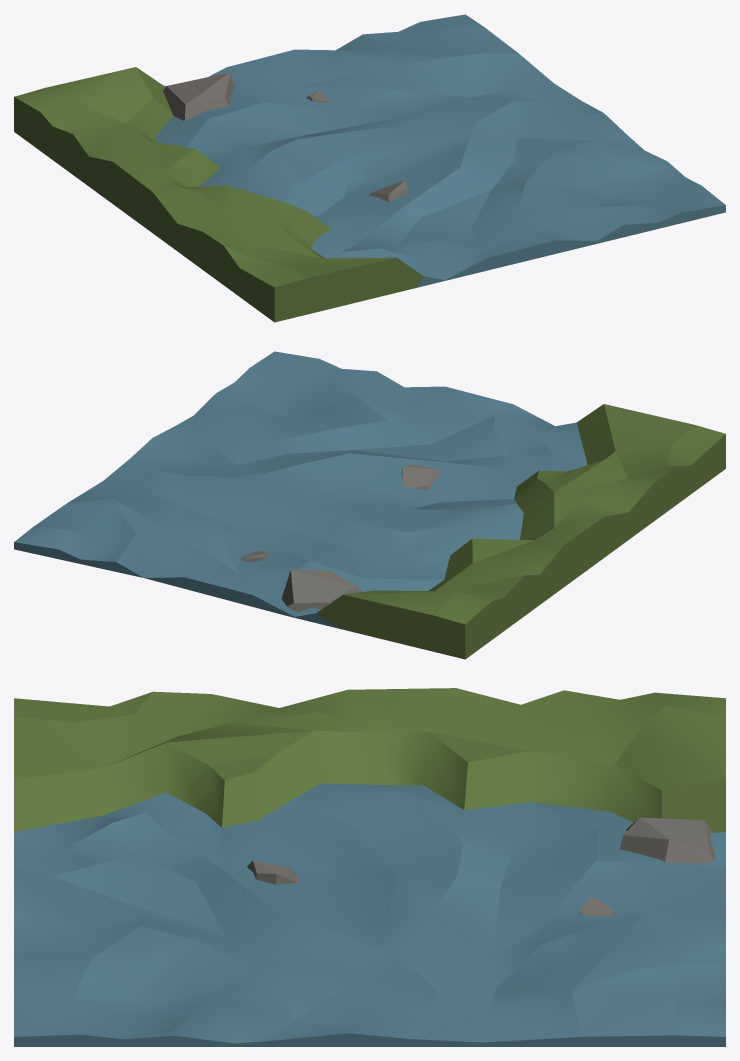
Rendered from Water_Edge_L.glb.
3 renders of one model, top to bottom at view 1: azimuth 30°, elevation 25°; view 2: azimuth 150°, elevation 25°; view 3: azimuth 270°, elevation 25°, orthographic. The views are drawn at different scales.
Parts seen in each view (by area): view 1: Water_Edge_L; view 2: Water_Edge_L; view 3: Water_Edge_L.
Part boxes in pixels (box(x1,y1,x2,y2)): Water_Edge_L: box(14, 14, 725, 322); Water_Edge_L: box(14, 351, 725, 659); Water_Edge_L: box(14, 688, 725, 1046).
Bounding box in the file's own units: 1.47 × 0.1393 × 1.47.
